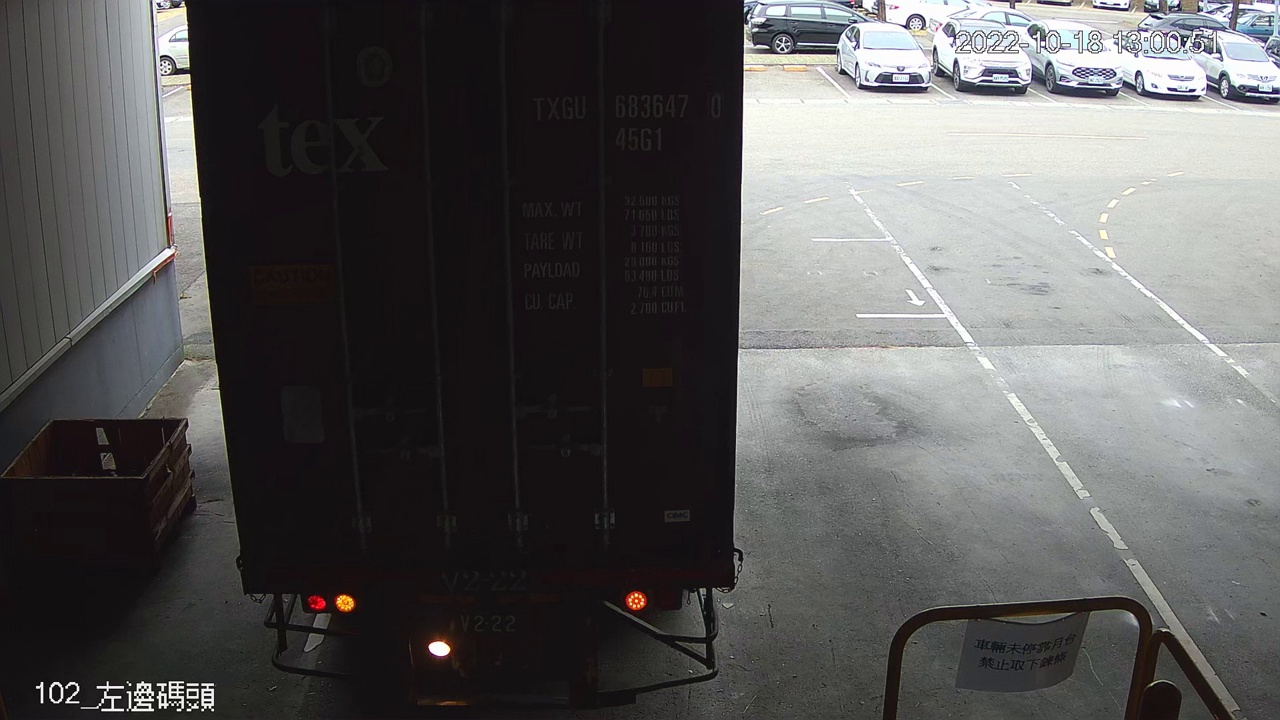container: (524, 85, 727, 163)
